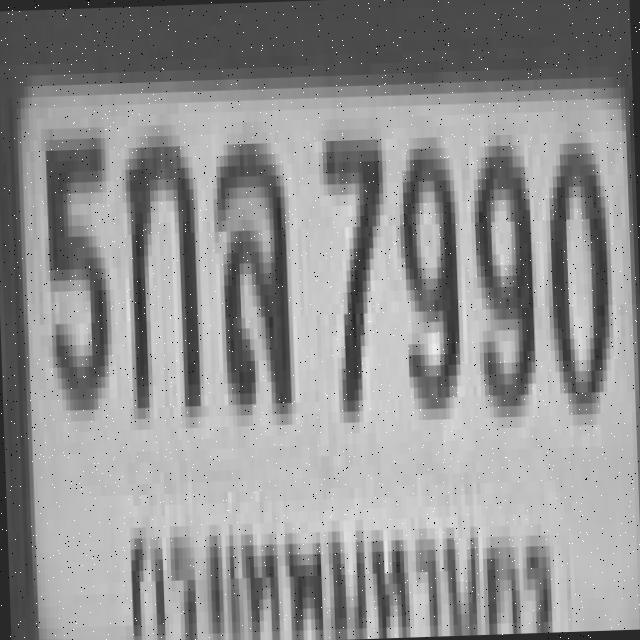0: (543, 131, 608, 404)
10GorGai: (120, 124, 197, 408)
45LorLing: (211, 132, 287, 405)
5: (40, 127, 110, 400)
7: (318, 128, 387, 412)
9: (468, 134, 532, 406), (392, 136, 457, 398)
Bangkok: (115, 492, 566, 640)
